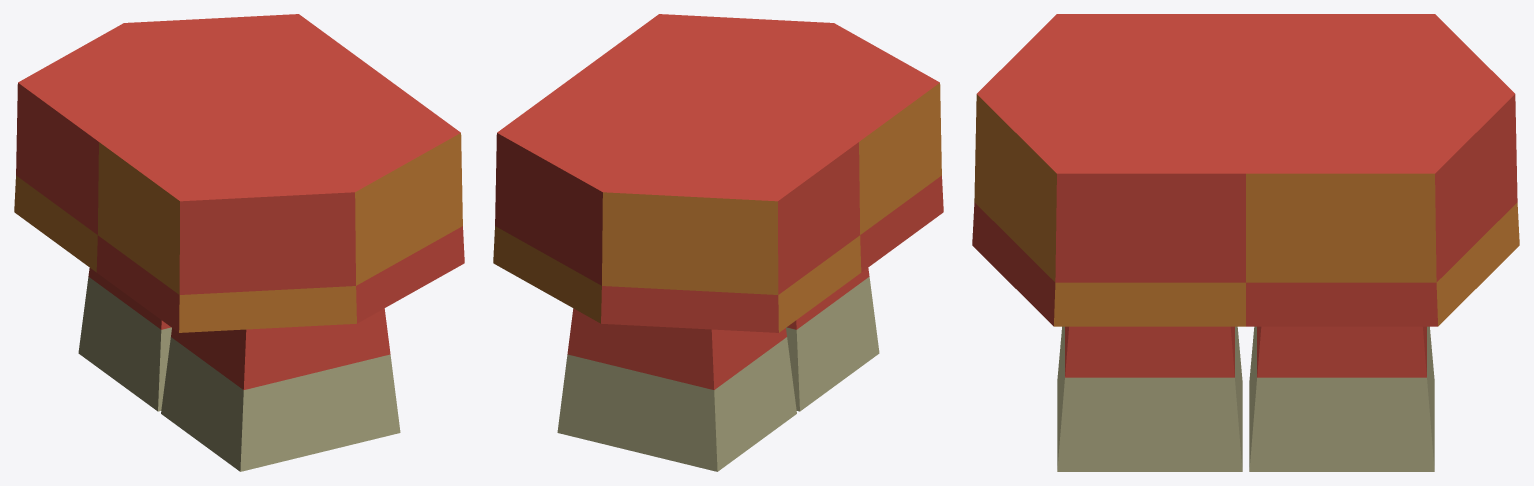
Rendered from BoneLegs.fbx.
3 views of the same model, side by side, from view 1: azimuth 30°, elevation 25°; view 2: azimuth 150°, elevation 25°; view 3: azimuth 270°, elevation 25° (orthographic). The views are drawn at different scales.
Parts seen in each view (by area): view 1: Leg Armour Bone; view 2: Leg Armour Bone; view 3: Leg Armour Bone.
Part boxes in pixels (<box>): Leg Armour Bone: <box>14,14,464,471</box>; Leg Armour Bone: <box>493,14,943,471</box>; Leg Armour Bone: <box>972,14,1519,471</box>.
Bounding box in the file's own units: 204 × 194 × 290.
